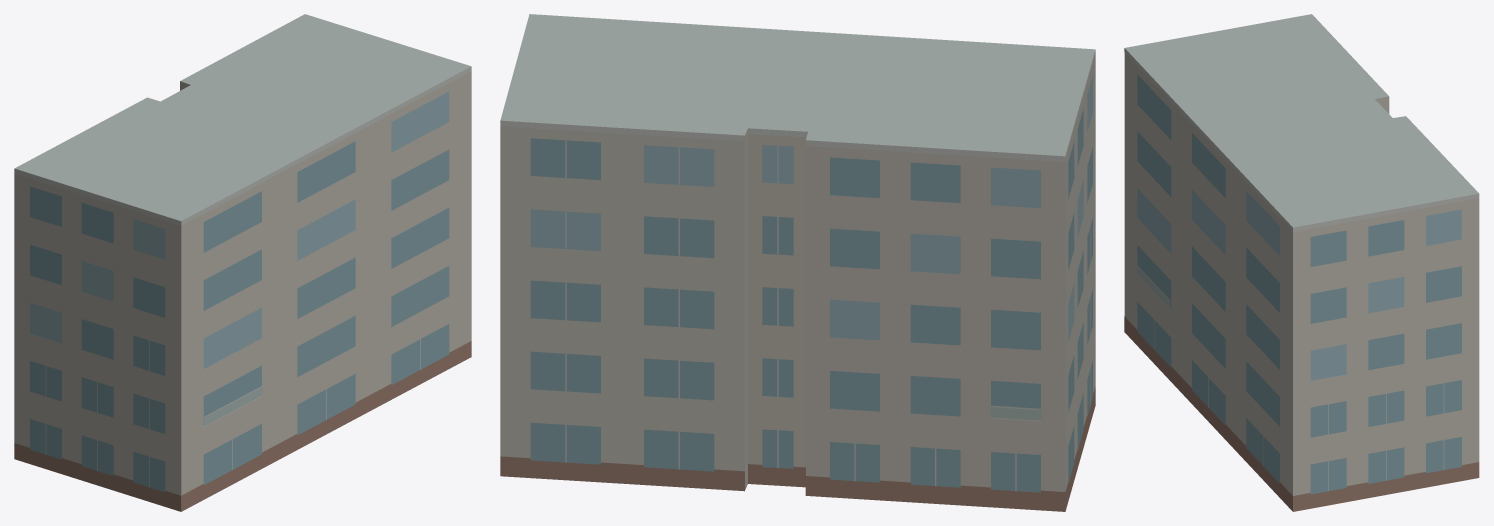
The model's file is survey-upis-33047463.glb.
The picture shows the model from 3 angles, left to right: view 1: azimuth 30°, elevation 25°; view 2: azimuth 150°, elevation 25°; view 3: azimuth 270°, elevation 25°; orthographic projection. The views are drawn at different scales.
Visible parts, largest first — view 1: survey-upis-33047463.tmp; view 2: survey-upis-33047463.tmp; view 3: survey-upis-33047463.tmp.
Part boxes in pixels (left/top/right/bottom): survey-upis-33047463.tmp: left=14, top=14, right=471, bottom=511; survey-upis-33047463.tmp: left=500, top=14, right=1095, bottom=511; survey-upis-33047463.tmp: left=1124, top=14, right=1479, bottom=511.
Size of the model in its own units: 24.59 by 15.25 by 17.26.
